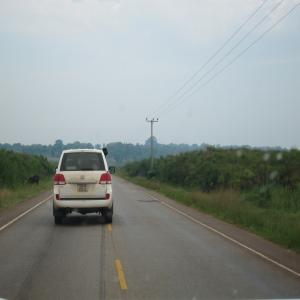Vehicle-registration-plate: (78, 183, 89, 194)
